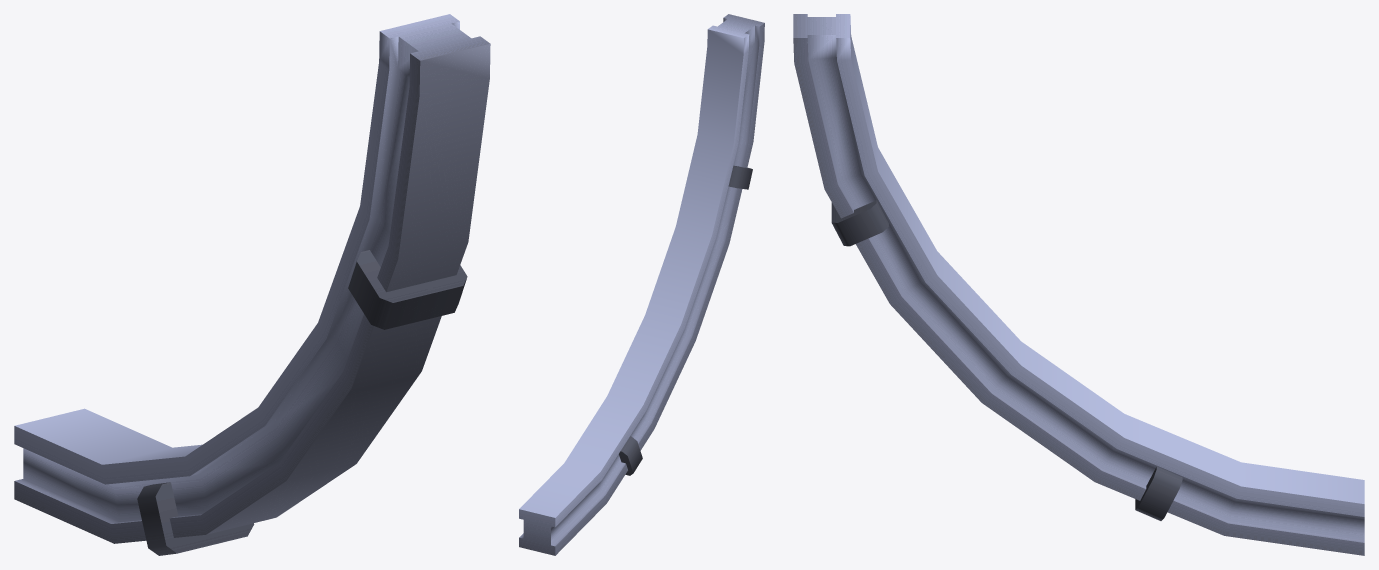
The model's file is coaster-monorail-straight-bend.glb.
The picture shows the model from 3 angles, left to right: view 1: azimuth 30°, elevation 25°; view 2: azimuth 150°, elevation 25°; view 3: azimuth 270°, elevation 25°; orthographic projection. The views are drawn at different scales.
Visible parts, largest first — view 1: coaster-monorail-straight-bend; view 2: coaster-monorail-straight-bend; view 3: coaster-monorail-straight-bend.
Part boxes in pixels (<box>): coaster-monorail-straight-bend: <box>14,14,490,555</box>; coaster-monorail-straight-bend: <box>519,14,764,555</box>; coaster-monorail-straight-bend: <box>793,14,1364,555</box>.
Bounding box in the file's own units: 0.7501 × 6 × 6.
Materials: 1 (1 with a texture image).
